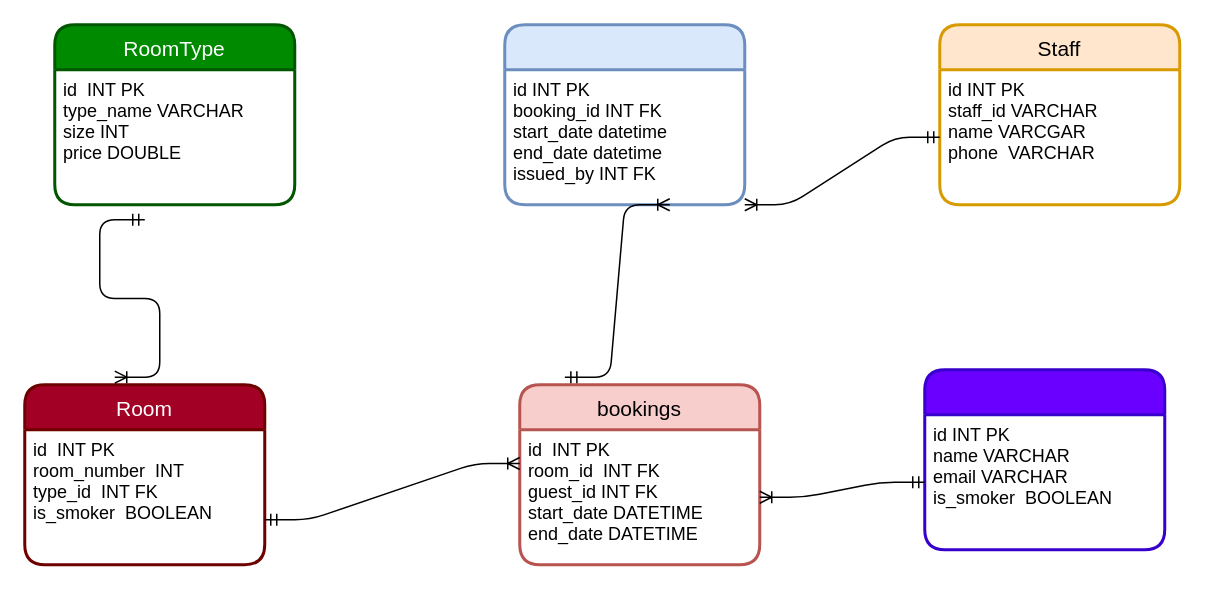
The diagram is 1205 pixels wide and 590 high, and some of its shapes have lost their labels. Here are the shapes that lost their labels. From the top down, the box of each, then its label:
(502, 22, 746, 206): Bills
(922, 368, 1166, 550): Guest
